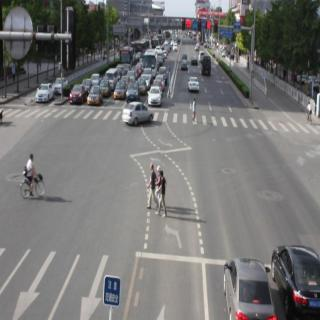BigCar: (121, 46, 135, 72), (145, 50, 158, 73), (200, 52, 213, 74)
Car: (266, 237, 320, 316), (222, 248, 271, 320), (124, 101, 151, 128), (35, 79, 51, 104), (52, 66, 63, 99), (147, 82, 162, 106), (89, 86, 104, 108), (97, 79, 114, 98), (114, 82, 129, 100), (188, 79, 204, 95), (106, 68, 119, 87), (128, 82, 143, 98), (80, 74, 95, 90), (71, 88, 84, 105), (157, 67, 168, 78), (182, 60, 190, 75)
